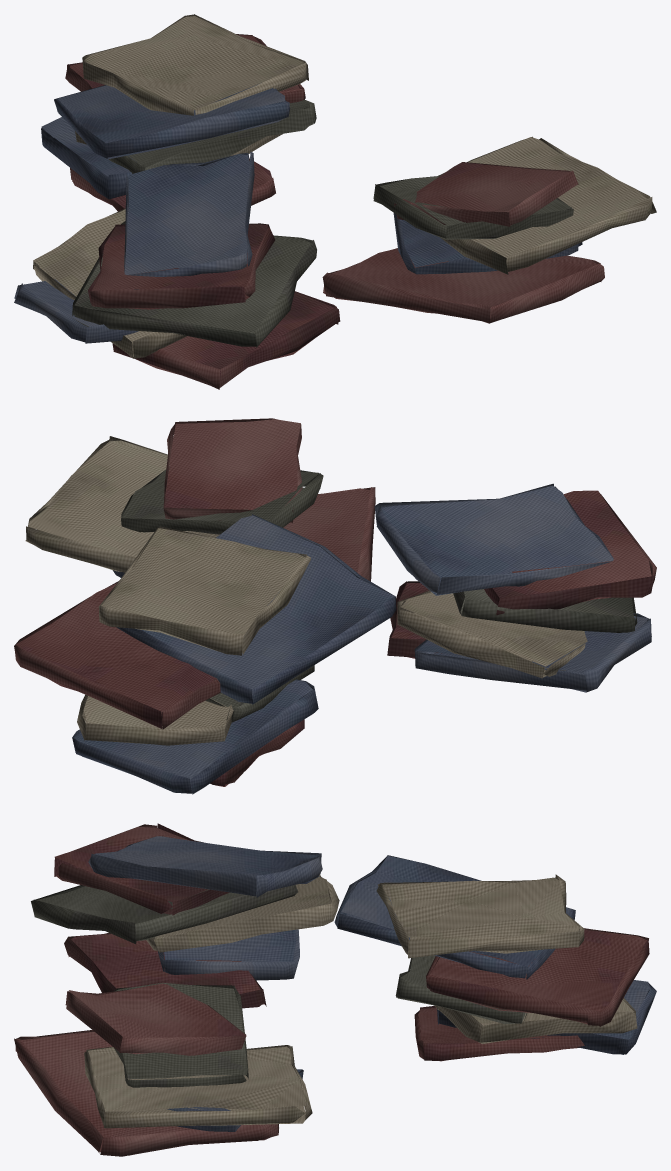
Rendered from D11_ClothesHeap.glb.
The picture shows the model from 3 angles, top to bottom: view 1: azimuth 30°, elevation 25°; view 2: azimuth 150°, elevation 25°; view 3: azimuth 270°, elevation 25°; orthographic projection. The views are drawn at different scales.
Visible parts, largest first — view 1: D11_ClothesHeap; view 2: D11_ClothesHeap; view 3: D11_ClothesHeap.
Part boxes in pixels (left/top/right/bottom): D11_ClothesHeap: left=14, top=14, right=656, bottom=389; D11_ClothesHeap: left=14, top=418, right=656, bottom=794; D11_ClothesHeap: left=14, top=823, right=656, bottom=1156.
Size of the model in its own units: 0.6011 by 0.1668 by 0.5963.
12 materials, 12 textured.
